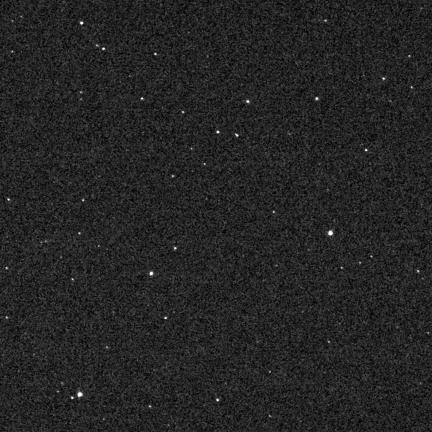blob: (328, 231, 334, 236), (77, 392, 83, 397), (174, 247, 178, 251), (216, 131, 220, 134), (149, 272, 153, 275), (164, 317, 168, 320), (246, 100, 250, 103), (316, 97, 319, 100), (103, 48, 106, 51), (141, 98, 144, 101), (235, 134, 238, 137), (154, 53, 157, 56), (80, 22, 83, 24)
